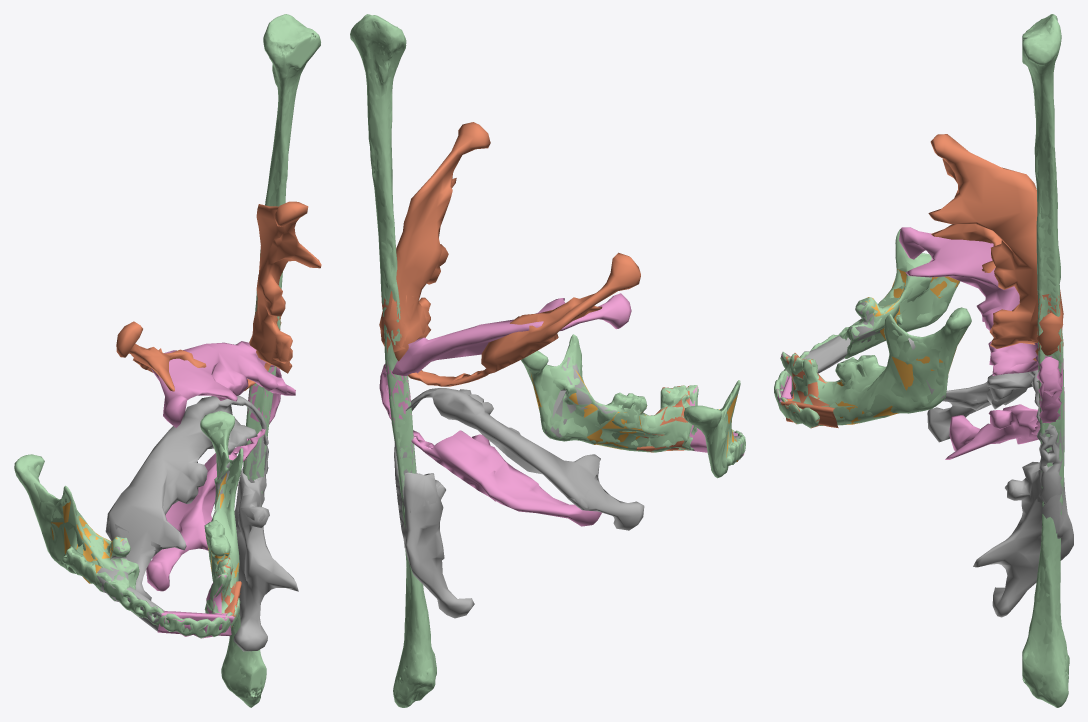
File: BoneReconstructionPlanner.gltf
The picture shows the model from 3 angles, left to right: view 1: azimuth 30°, elevation 25°; view 2: azimuth 150°, elevation 25°; view 3: azimuth 270°, elevation 25°; orthographic projection. The views are drawn at different scales.
Visible parts, largest first — view 1: Transformed Mandible 0_4, Transformed Mandible 1_4, Mandible, Transformed Mandible 2_4, Fibula, decimatedMandible, decimatedFibula, Transformed Mandible Segment 0_4, Resected mandible, Transformed Mandible Segment 2_4, Mandible Segment 0, Transformed Fibula Segment 1A-1B_4; view 2: Transformed Mandible 2_4, Transformed Mandible 0_4, Transformed Mandible 1_4, Fibula, Mandible, decimatedFibula, decimatedMandible, Transformed Mandible Segment 0_4, Resected mandible, Transformed Mandible Segment 2_4, Mandible Segment 0; view 3: Transformed Mandible 2_4, Mandible, Fibula, Transformed Mandible 1_4, Transformed Mandible 0_4, decimatedFibula, decimatedMandible, Transformed Mandible Segment 0_4, Transformed Mandible Segment 2_4, Resected mandible, Transformed Fibula Segment 0A-0B_4, Transformed Mandible Segment 1_4 (+3 smaller).
Part boxes in pixels (x1,y1,x2,y2): Transformed Mandible 0_4: [105, 395, 298, 651]; Transformed Mandible 1_4: [146, 341, 295, 591]; Mandible: [14, 411, 243, 637]; Transformed Mandible 2_4: [116, 201, 321, 391]; Fibula: [221, 14, 320, 707]; decimatedMandible: [14, 411, 242, 638]; decimatedFibula: [221, 14, 320, 707]; Transformed Mandible Segment 0_4: [106, 435, 269, 551]; Resected mandible: [51, 473, 238, 583]; Transformed Mandible Segment 2_4: [251, 315, 292, 365]; Mandible Segment 0: [97, 462, 233, 623]; Transformed Fibula Segment 1A-1B_4: [157, 611, 234, 636]; Transformed Mandible 2_4: [379, 122, 640, 386]; Transformed Mandible 0_4: [394, 388, 644, 618]; Transformed Mandible 1_4: [379, 293, 631, 526]; Fibula: [350, 14, 436, 707]; Mandible: [521, 334, 745, 477]; decimatedFibula: [350, 14, 436, 707]; decimatedMandible: [521, 334, 745, 478]; Transformed Mandible Segment 0_4: [394, 444, 599, 512]; Resected mandible: [531, 370, 737, 461]; Transformed Mandible Segment 2_4: [379, 295, 430, 352]; Mandible Segment 0: [542, 357, 744, 460]; Transformed Mandible 2_4: [928, 134, 1063, 361]; Mandible: [774, 228, 971, 427]; Fibula: [1022, 14, 1069, 707]; Transformed Mandible 1_4: [899, 227, 1062, 459]; Transformed Mandible 0_4: [927, 370, 1073, 617]; decimatedFibula: [1022, 14, 1069, 707]; decimatedMandible: [774, 234, 969, 428]; Transformed Mandible Segment 0_4: [948, 399, 1064, 503]; Transformed Mandible Segment 2_4: [990, 294, 1063, 353]; Resected mandible: [835, 269, 964, 424]; Transformed Fibula Segment 0A-0B_4: [802, 335, 850, 373]; Transformed Mandible Segment 1_4: [993, 358, 1062, 423].
Size of the model in its own units: 177 by 344 by 132.
